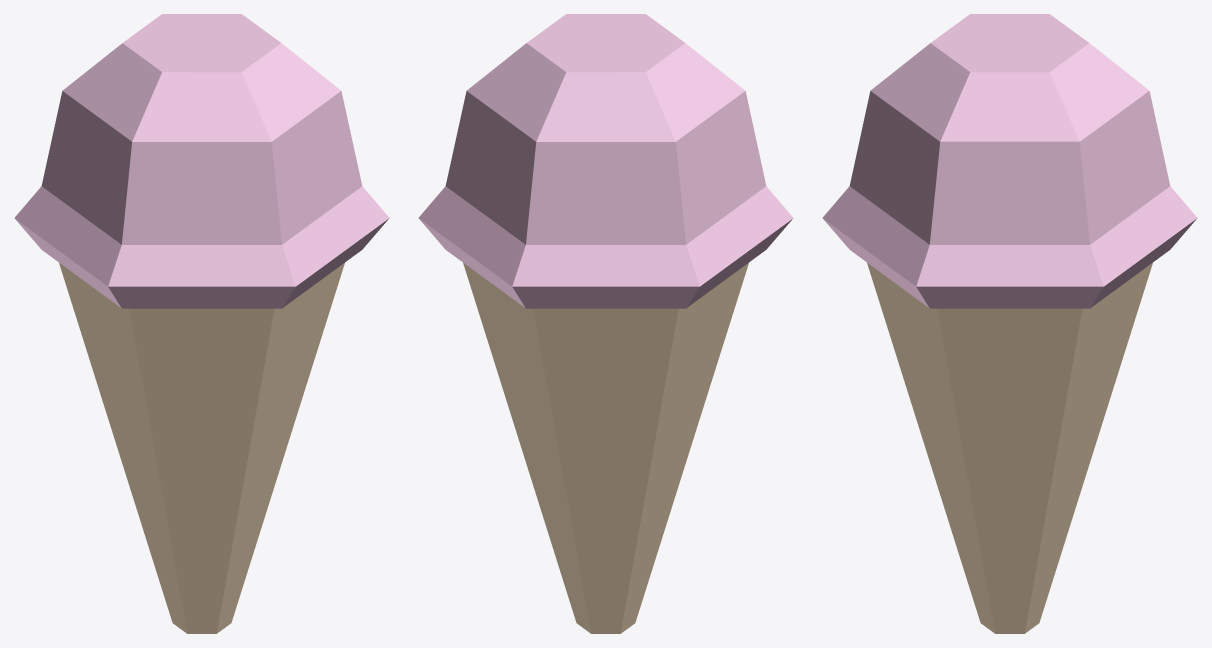
The picture shows the model from 3 angles, left to right: view 1: azimuth 30°, elevation 25°; view 2: azimuth 150°, elevation 25°; view 3: azimuth 270°, elevation 25°; orthographic projection.
Visible parts, largest first — view 1: iceCream; view 2: iceCream; view 3: iceCream.
Part boxes in pixels (x1,y1,x2,y2): iceCream: (14,14,389,633); iceCream: (418,14,793,633); iceCream: (822,14,1197,633).
Bounding box in the file's own units: 0.2353 × 0.4633 × 0.2716.
